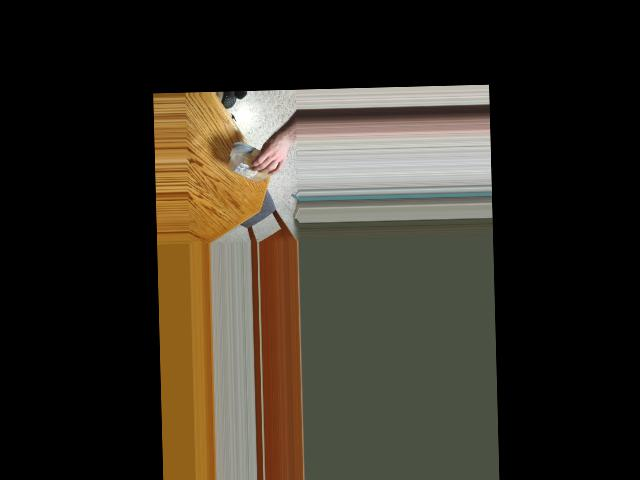cheese: (229, 145, 271, 176)
